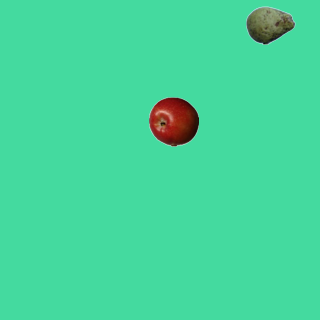Apple Braeburn: (148, 96, 198, 146)
Pear Stone: (245, 0, 295, 50)
